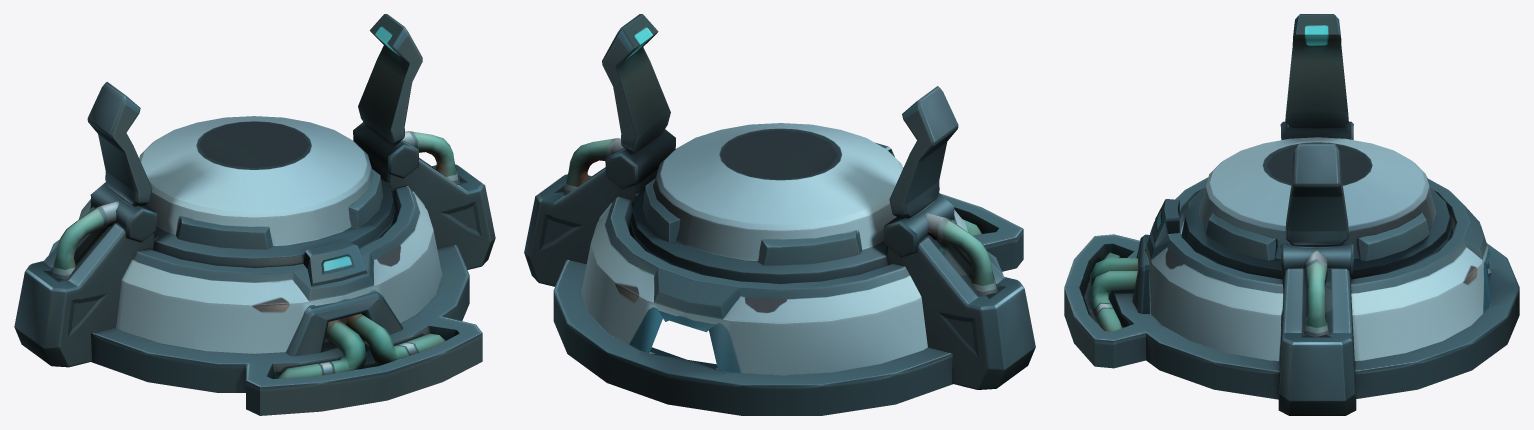
The picture shows the model from 3 angles, left to right: view 1: azimuth 30°, elevation 25°; view 2: azimuth 150°, elevation 25°; view 3: azimuth 270°, elevation 25°; orthographic projection. The views are drawn at different scales.
Visible parts, largest first — view 1: SM_Base_Lv01; view 2: SM_Base_Lv01; view 3: SM_Base_Lv01.
Part boxes in pixels (<box>): SM_Base_Lv01: <box>14,14,495,415</box>; SM_Base_Lv01: <box>524,14,1035,415</box>; SM_Base_Lv01: <box>1064,14,1519,415</box>.
Size of the model in its own units: 878 by 461 by 806.
1 material, 1 textured.
